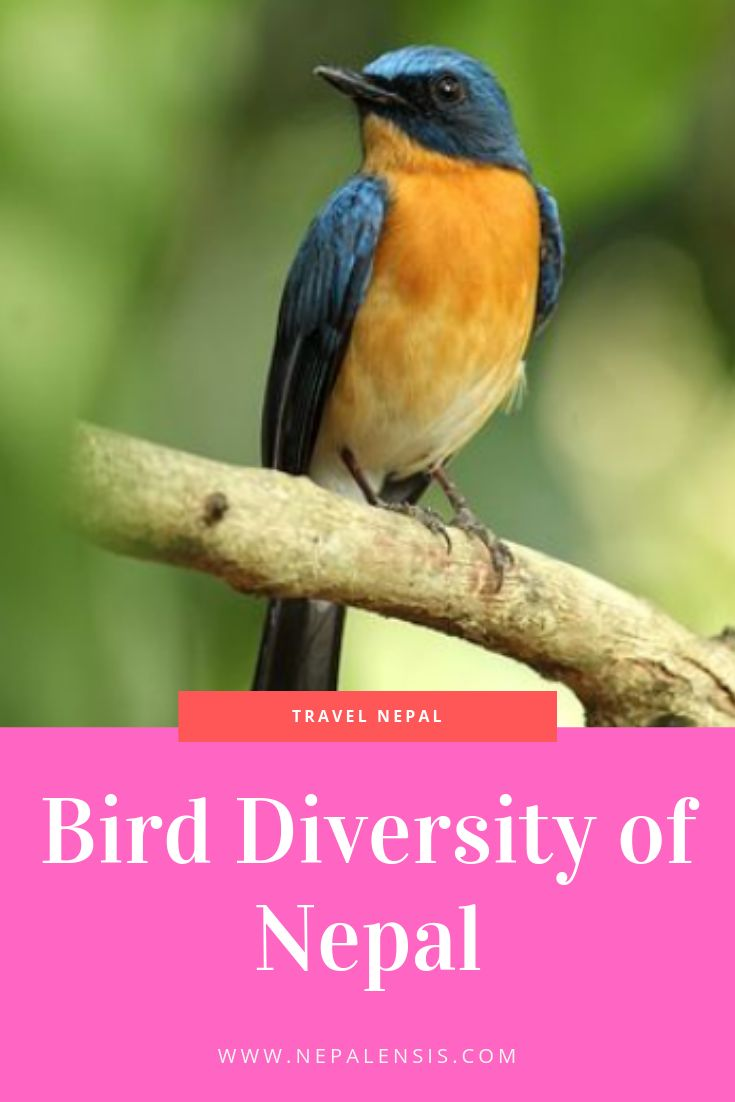bird: (226, 23, 573, 687)
